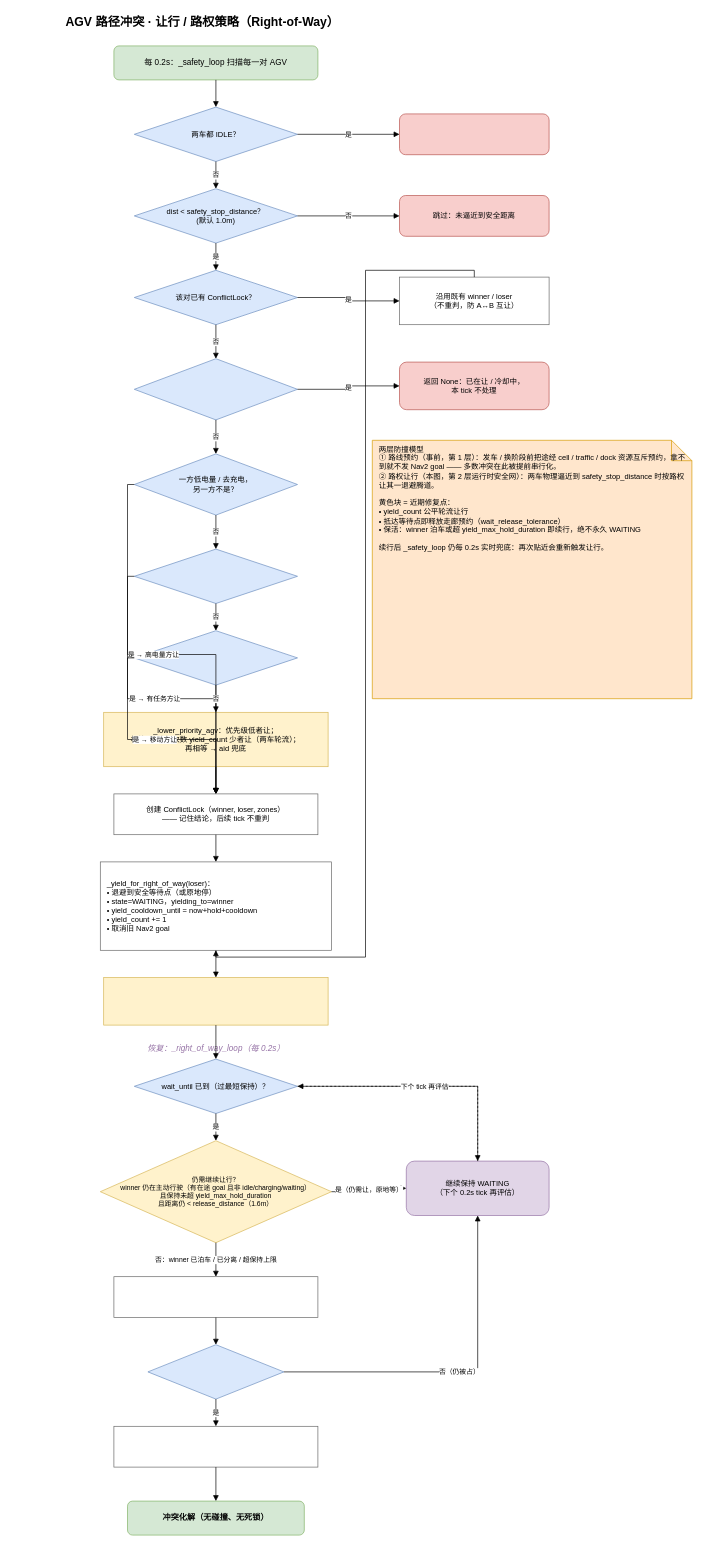
This 704x1547 diagram has some shape labels left out. The box of each missing label's shape, as (x1, y1, x2, y2) in pixels:
_prepare_stage_dispatch_locked (wait_on_block=False) 重抢路线预约: (113, 1276, 318, 1318)
loser 抵达等待点（≤ wait_release_tolerance） → 在 _nav_done 释放走廊路线预约，让 winner 通过: (103, 977, 328, 1025)
一方在移动， 另一方已停？: (134, 630, 298, 685)
一方有任务， 另一方空闲？: (134, 548, 298, 604)
任一方 WAITING 或处于让行冷却？: (134, 358, 298, 420)
续行：清等待字段 + 清本车 ConflictLock， _send_nav，打印 [RESUME]: (113, 1426, 318, 1467)
跳过：都停着，不算冲突: (399, 113, 549, 155)
预约抢到？: (147, 1344, 284, 1399)
